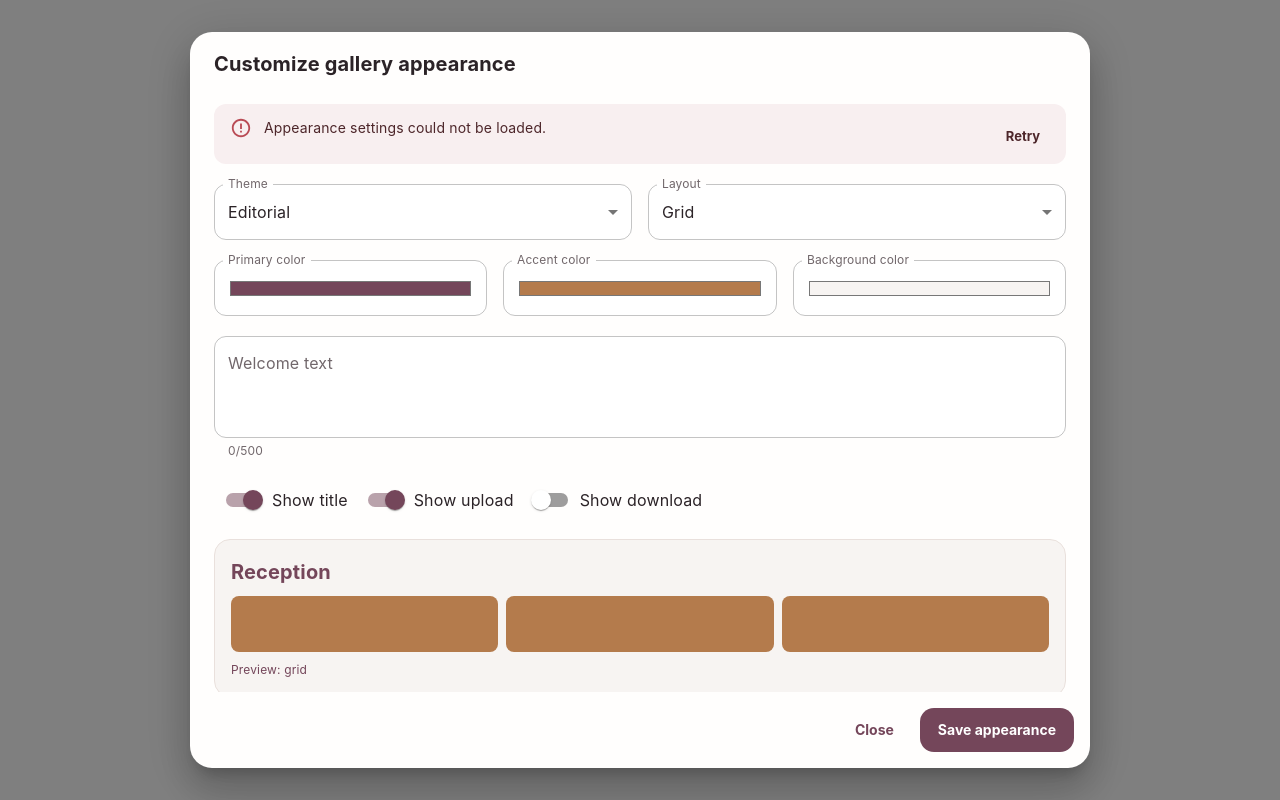
AppearancePanel › shows retry for load errors and an explicit conflict state
expect the text "Appearance settings could not be loaded." is shown: met, box [264,119,546,136]
Click the button "Retry". click: (1023, 136)
box: [988,114,1058,158]
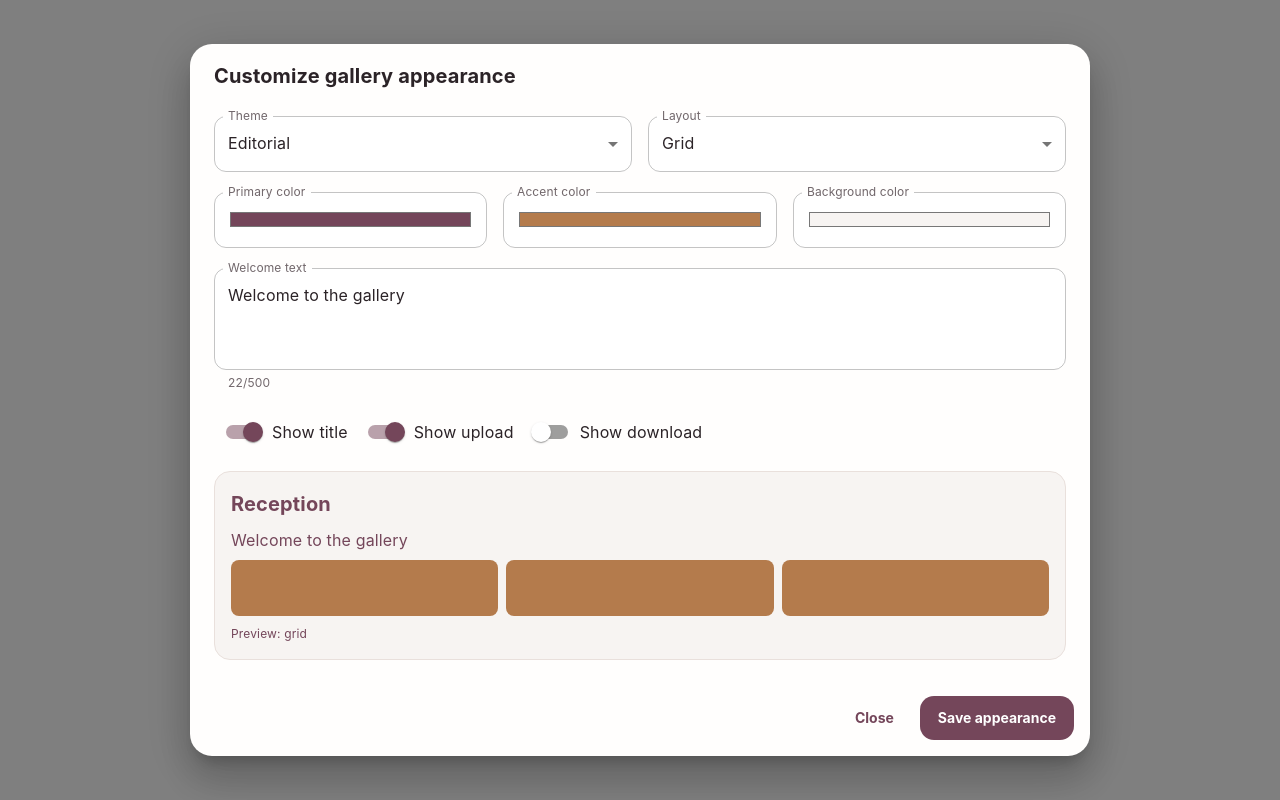
expect the text box labelled "Welcome text" is shown: met, box [228,284,1052,353]
Click the button "Save appearance". click: (997, 718)
box: [920,696,1074,740]
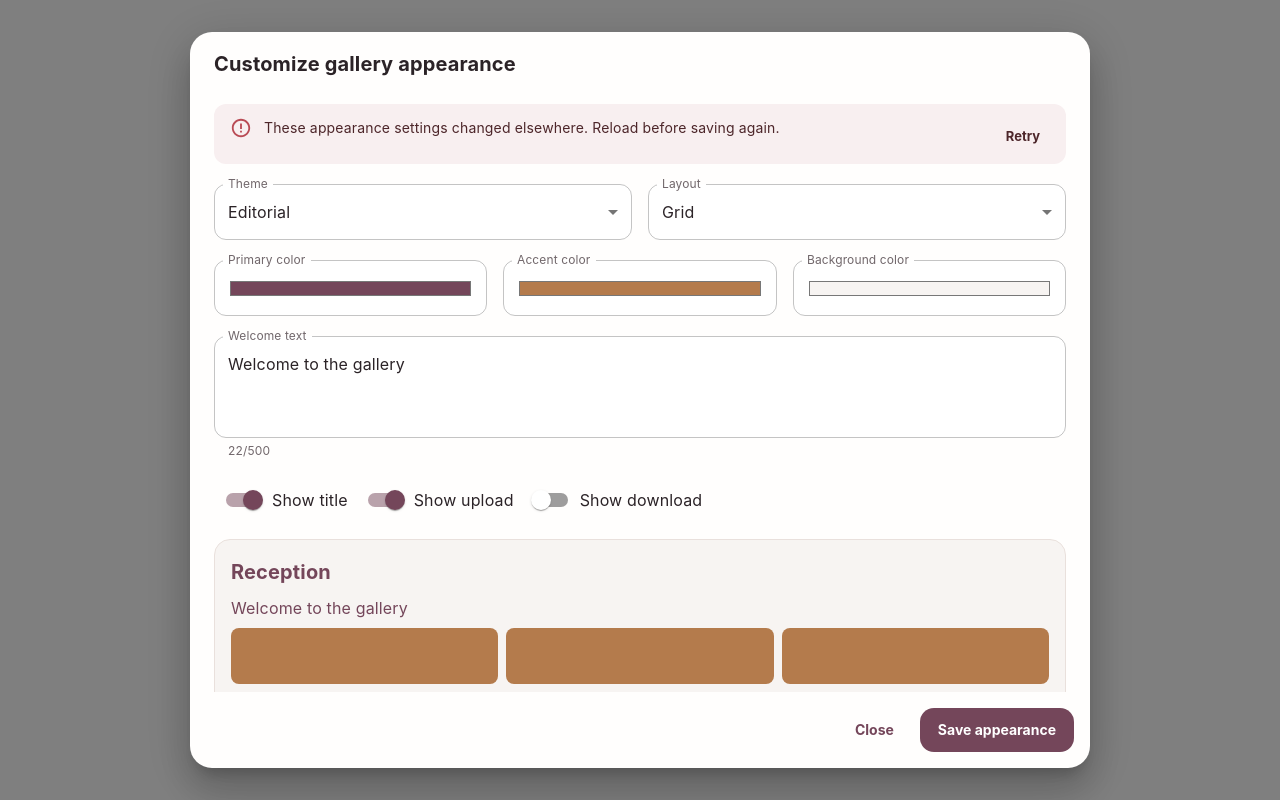
expect the text "changed elsewhere" is shown: met, box [264,119,780,136]
